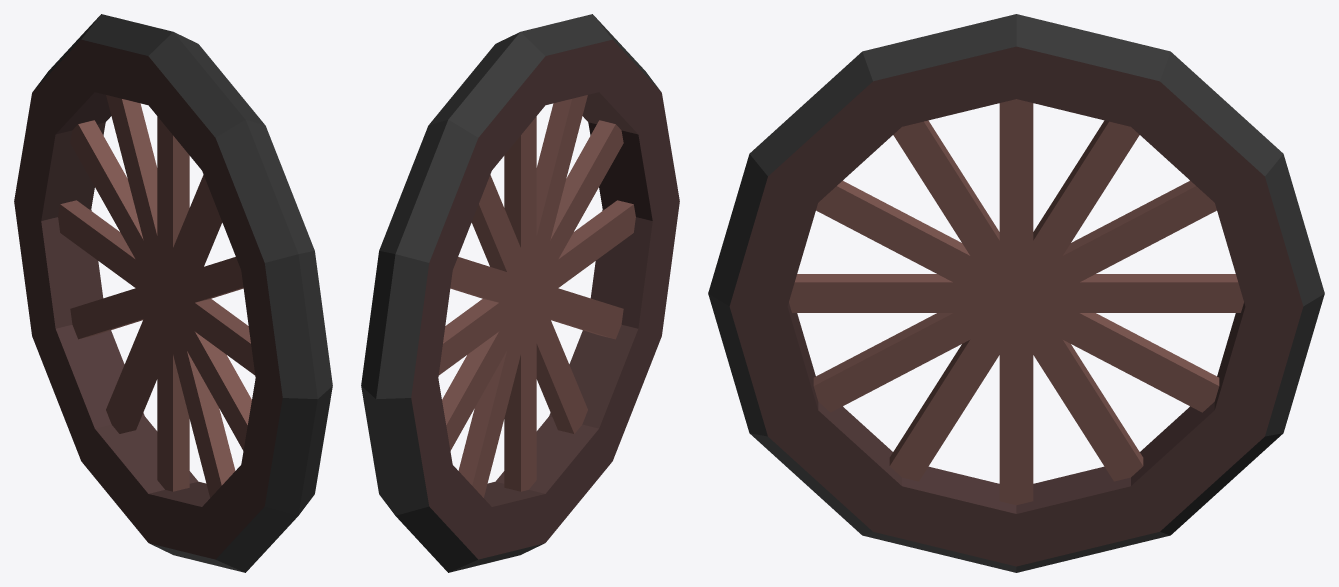
Rendered from DarkRoseWoodMechLargeLiftFrameWheel1.fbx.
The picture shows the model from 3 angles, left to right: view 1: azimuth 30°, elevation 25°; view 2: azimuth 150°, elevation 25°; view 3: azimuth 270°, elevation 25°; orthographic projection. The views are drawn at different scales.
Visible parts, largest first — view 1: DarkRoseWoodMechLargeLiftFrameWheel1; view 2: DarkRoseWoodMechLargeLiftFrameWheel1; view 3: DarkRoseWoodMechLargeLiftFrameWheel1.
Part boxes in pixels (<box>): DarkRoseWoodMechLargeLiftFrameWheel1: <box>14,14,332,572</box>; DarkRoseWoodMechLargeLiftFrameWheel1: <box>361,14,679,572</box>; DarkRoseWoodMechLargeLiftFrameWheel1: <box>708,14,1324,572</box>.
Bounding box in the file's own units: 29.09 × 290 × 290.
